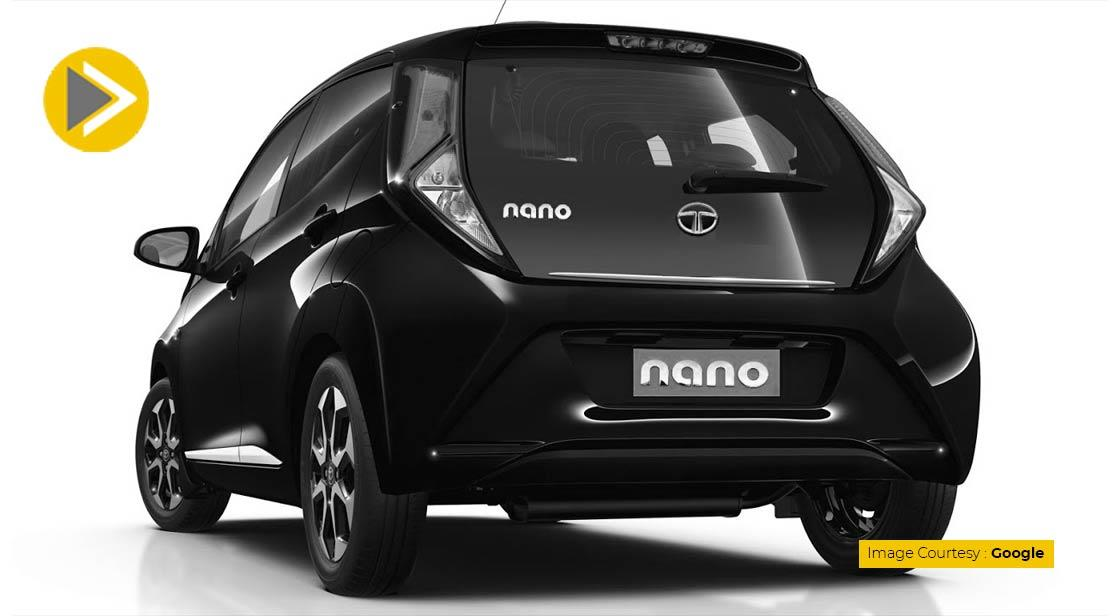Nano: (127, 25, 980, 587)
